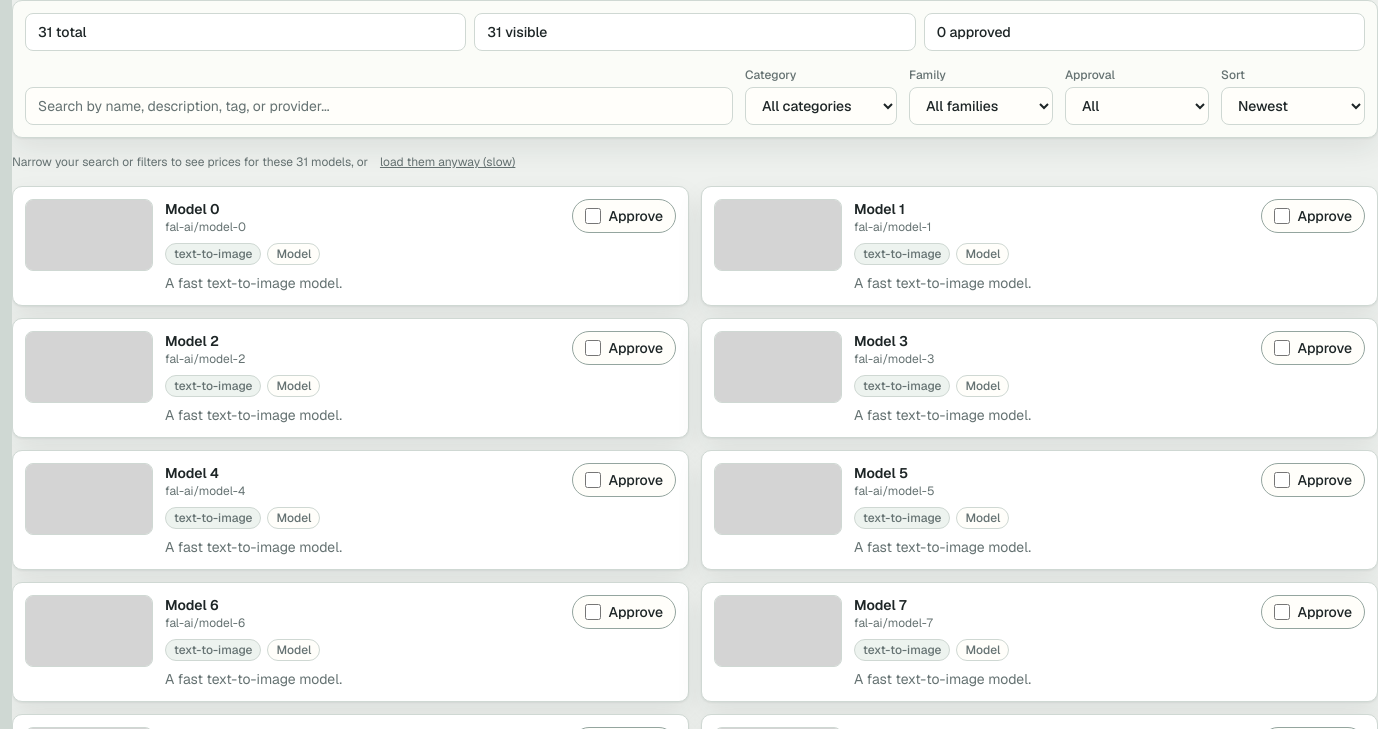
Test: ModelsBrowser (search and filters) › 'load them anyway' fetches the first chunk immediately and shows progress
Step 1. Click the button "load them anyway (slow)" → (448, 162), box [376,154,519,170]
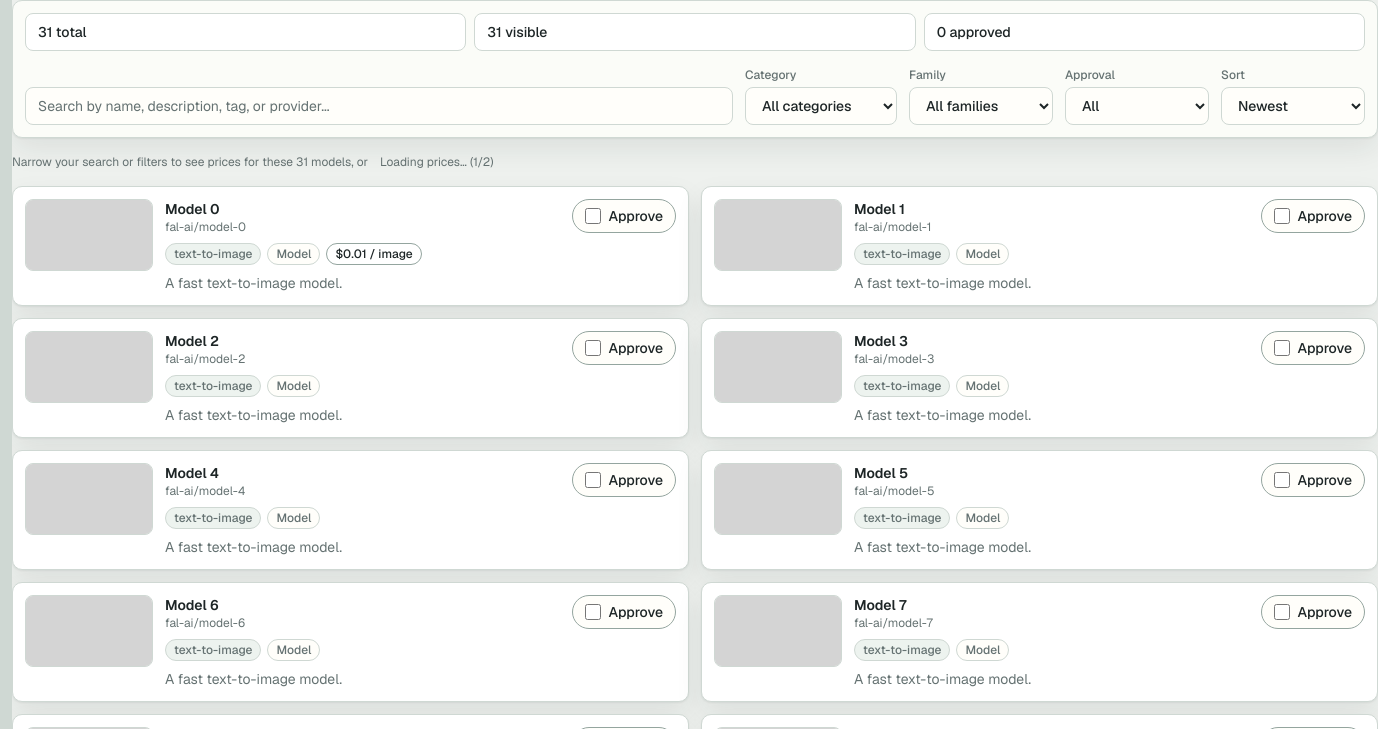
Expected: the text "$0.01 / image" is shown, [326,243,422,265]
Expected: the button "Loading prices… (1/2)" is disabled, [376,154,498,170]
